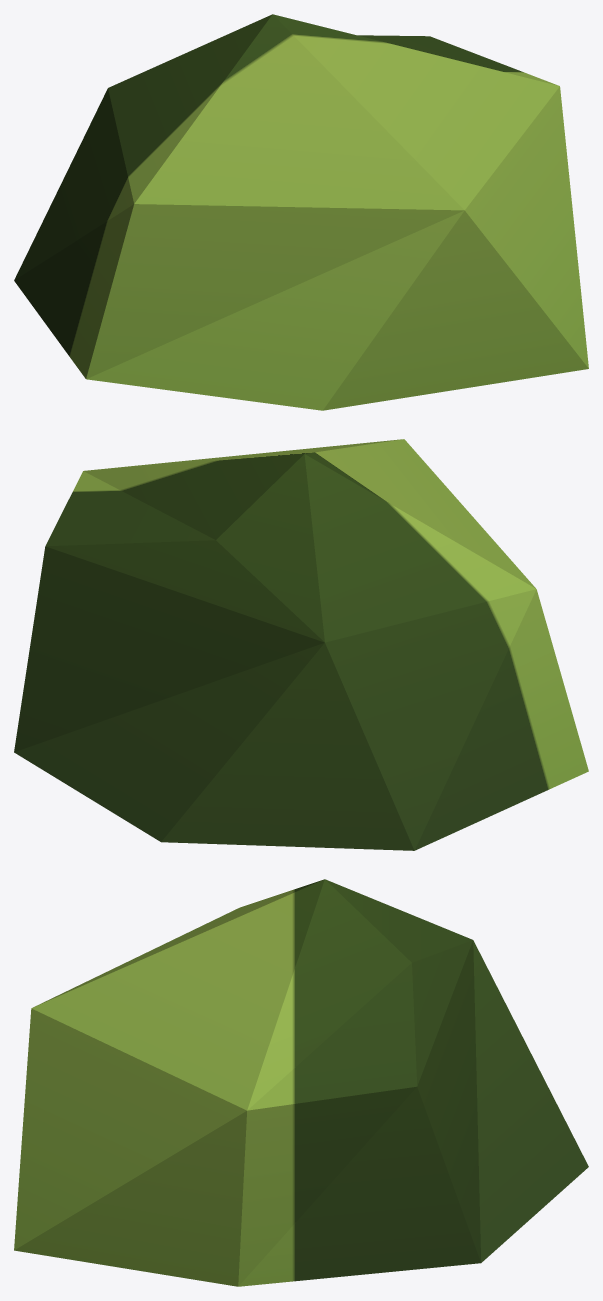
Rendered from Rock_08.fbx.
3 views of the same model, one above another, from view 1: azimuth 30°, elevation 25°; view 2: azimuth 150°, elevation 25°; view 3: azimuth 270°, elevation 25° (orthographic). The views are drawn at different scales.
Parts seen in each view (by area): view 1: Rock_08; view 2: Rock_08; view 3: Rock_08.
Boxes of the visible parts, x1,y1,x2,y2 form: Rock_08: (14,14,588,410); Rock_08: (14,439,588,850); Rock_08: (14,879,588,1286).
Bounding box in the file's own units: 1.95 × 1.1 × 1.99.
